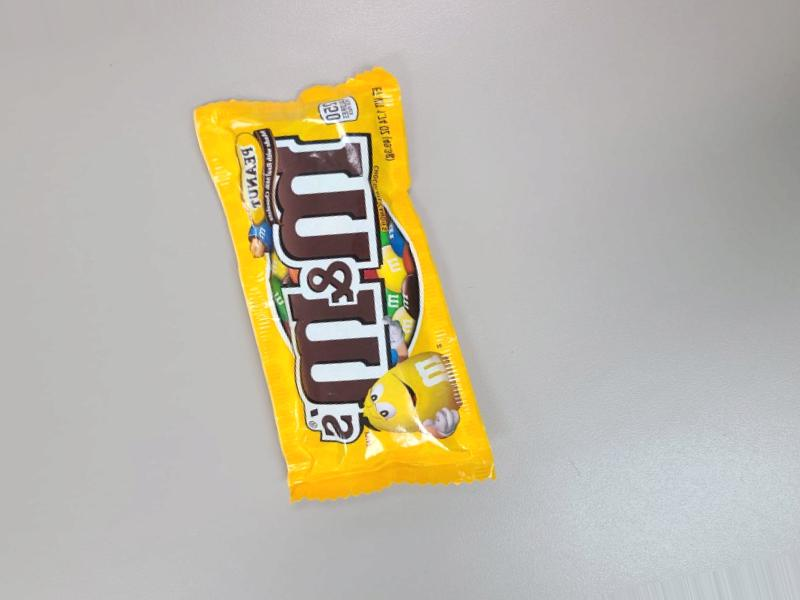m&m: (164, 112, 483, 490)
